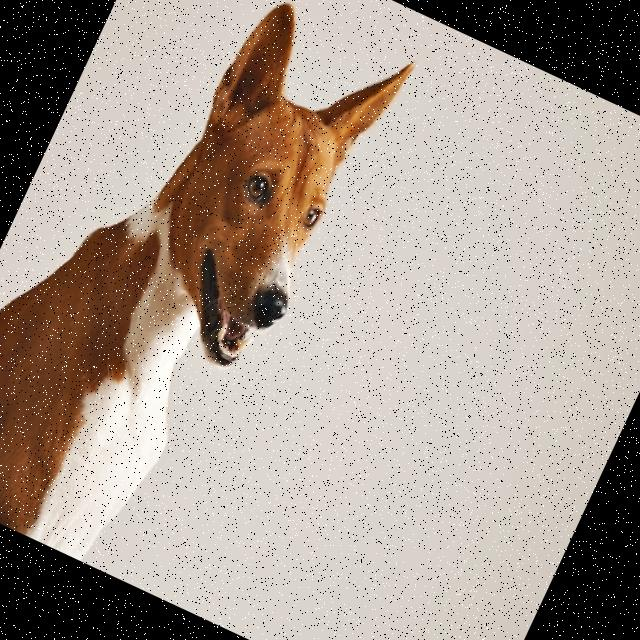Dog: (0, 0, 415, 600)
